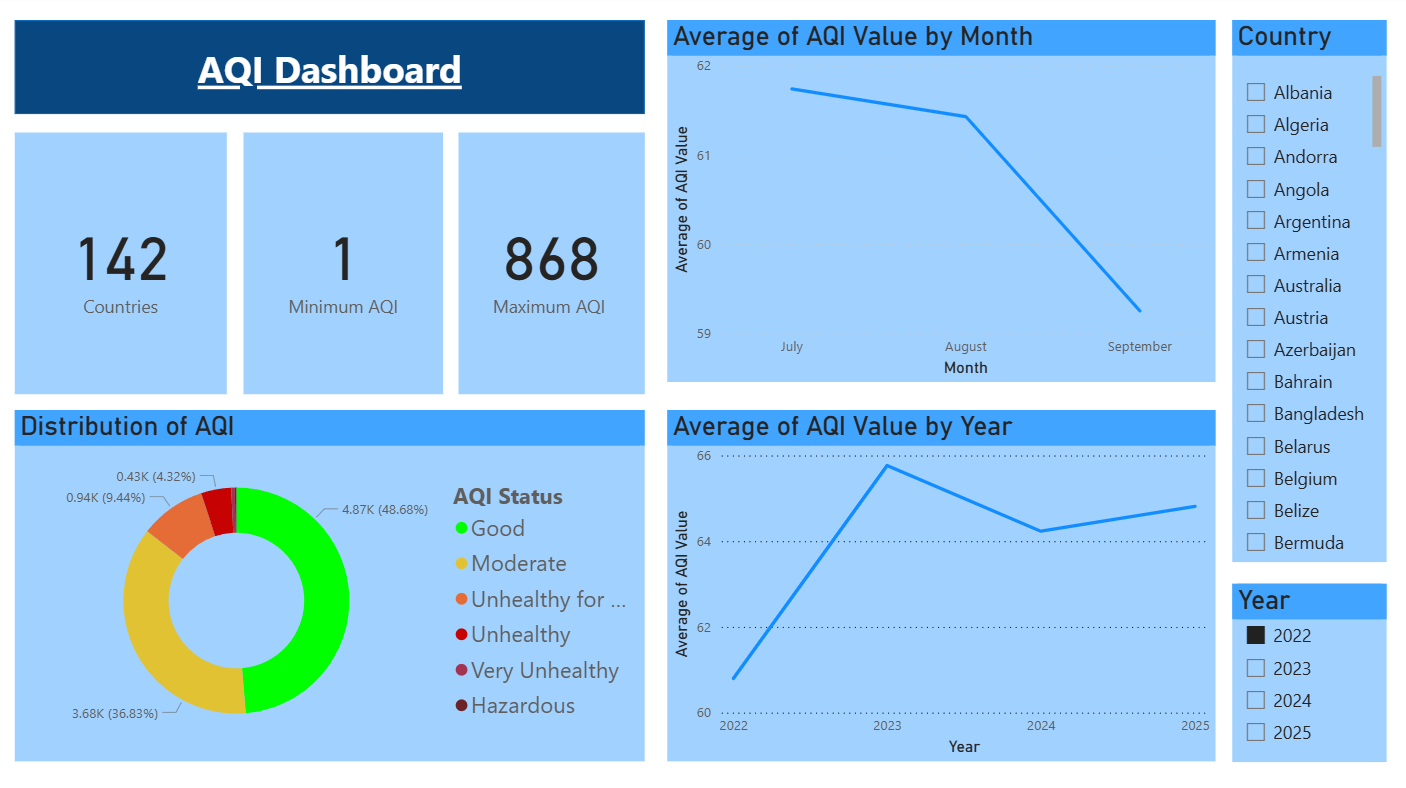

The dashboard page shown, as its layout file describes it:
{"tool":"powerbi","page":{"name":"Page 1","canvas":[1280,720],"ordinal":0},"visuals":[{"type":"lineChart","fields":{"Category":["aqi.Date.Variation.Date Hierarchy.Month","aqi.Date.Variation.Date Hierarchy.Day"],"Y":["Avg(aqi.AQI Value)"]},"box":[610,22.3,494.1,326.6],"z":0},{"type":"donutChart","title":"Distribution of AQI","fields":{"Category":["aqi.Status"],"Y":["CountNonNull(aqi.Status)"]},"box":[20.9,374.1,568.1,316.9],"z":1000},{"type":"slicer","title":"Country","fields":{"Values":["aqi.Country"]},"box":[1119.5,22.3,139.6,488.5],"z":2000},{"type":"slicer","title":"Year","fields":{"Values":["aqi.Date.Variation.Date Hierarchy.Year"]},"box":[1119.5,530.4,139.6,160.5],"z":3000},{"type":"shape","box":[20.9,22.3,568.1,85.1],"z":4000},{"type":"card","fields":{"Values":["Count(aqi.Country)"]},"box":[20.9,124.2,191.2,235.9],"z":5000},{"type":"lineChart","fields":{"Category":["aqi.Date.Variation.Date Hierarchy.Year","aqi.Date.Variation.Date Hierarchy.Quarter","aqi.Date.Variation.Date Hierarchy.Month","aqi.Date.Variation.Date Hierarchy.Day"],"Y":["Avg(aqi.AQI Value)"]},"box":[610,374.1,494.1,316.9],"z":6000},{"type":"card","fields":{"Values":["Min(aqi.AQI Value)"]},"box":[227.5,124.2,180.1,235.9],"z":6001},{"type":"card","fields":{"Values":["Max(aqi.AQI Value)"]},"box":[421,124,168,236],"z":6002}]}

Visuals, with their boxes in screenshot pixels (x1, y1, x2, y2), scaled from the page's 1280x720 canvas onto the 1406x788 screenshot:
lineChart - aqi.Date.Variation.Date Hierarchy.Month x aqi.Date.Variation.Date Hierarchy.Day: 670/24/1213/382
"Distribution of AQI" donutChart: 23/409/647/756
"Country" slicer: 1230/24/1383/559
"Year" slicer: 1230/580/1383/756
shape: 23/24/647/118
card - Count(aqi.Country): 23/136/233/394
lineChart - aqi.Date.Variation.Date Hierarchy.Year x aqi.Date.Variation.Date Hierarchy.Quarter: 670/409/1213/756
card - Min(aqi.AQI Value): 250/136/448/394
card - Max(aqi.AQI Value): 462/136/647/394
